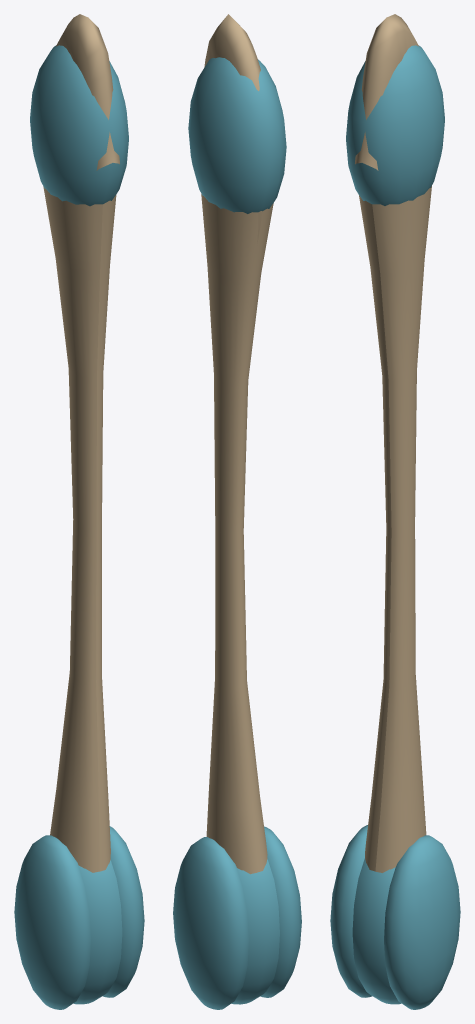
File: right_ulna.glb
The picture shows the model from 3 angles, left to right: view 1: azimuth 30°, elevation 25°; view 2: azimuth 210°, elevation 25°; view 3: azimuth 330°, elevation 25°; orthographic projection.
Parts seen in each view (by area): view 1: right_ulna:diaphysis, right_ulna:proximal-envelope, right_ulna:condyle--1, right_ulna:distal-envelope, right_ulna:condyle-1, right_ulna:olecranon; view 2: right_ulna:diaphysis, right_ulna:proximal-envelope, right_ulna:condyle-1, right_ulna:distal-envelope, right_ulna:condyle--1, right_ulna:olecranon; view 3: right_ulna:diaphysis, right_ulna:proximal-envelope, right_ulna:condyle-1, right_ulna:distal-envelope, right_ulna:condyle--1, right_ulna:olecranon.
Boxes of the visible parts, x1,y1,x2,y2 form: right_ulna:diaphysis: (43,186,116,872); right_ulna:proximal-envelope: (30,45,128,206); right_ulna:condyle--1: (14,835,90,1009); right_ulna:distal-envelope: (73,860,122,1004); right_ulna:condyle-1: (102,826,144,997); right_ulna:olecranon: (56,14,119,170); right_ulna:diaphysis: (201,194,273,874); right_ulna:proximal-envelope: (188,57,286,213); right_ulna:condyle-1: (173,837,248,1009); right_ulna:distal-envelope: (231,859,279,1004); right_ulna:condyle--1: (260,826,301,997); right_ulna:olecranon: (204,14,262,243); right_ulna:diaphysis: (359,186,431,872); right_ulna:proximal-envelope: (346,45,444,205); right_ulna:condyle-1: (384,835,460,1009); right_ulna:distal-envelope: (352,858,401,1004); right_ulna:condyle--1: (330,825,372,997); right_ulna:olecranon: (355,14,418,170).
Bounding box in the file's own units: 0.072 × 0.648 × 0.0768.
